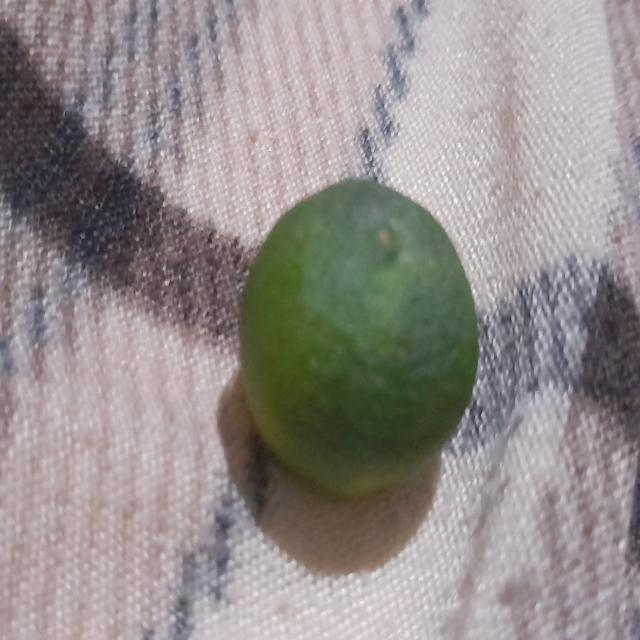heathy: (232, 163, 488, 507)
